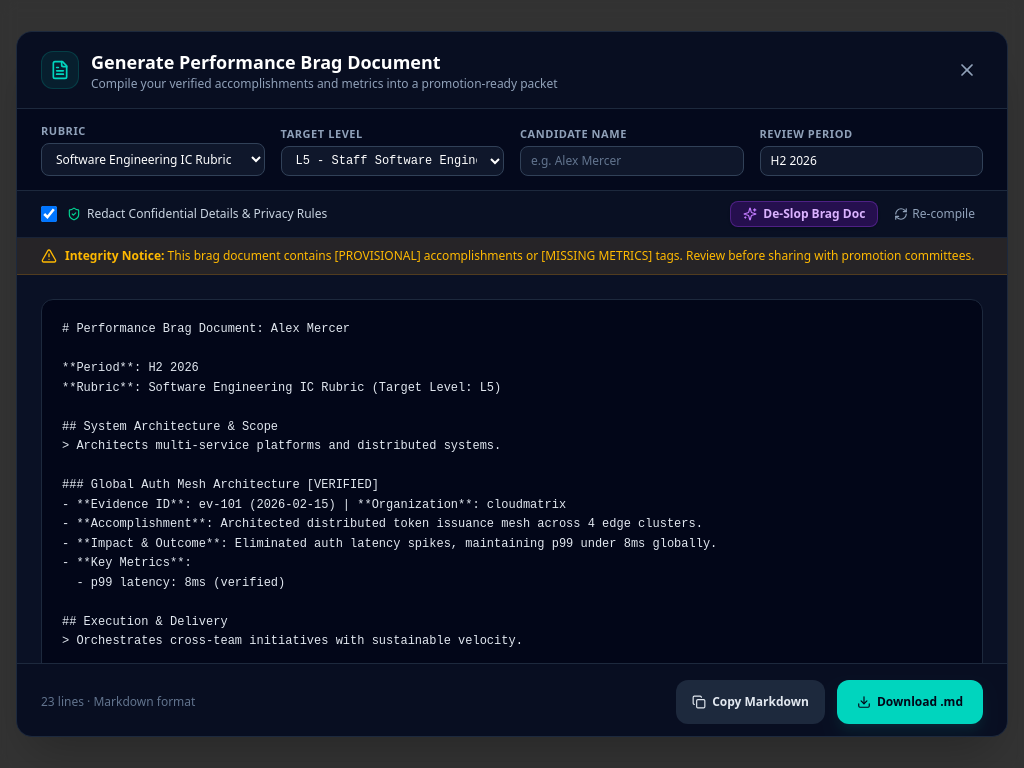
Test case: Rubric Gap Matrix & Brag Doc Generator Tests › Brag Doc Generator Modal (BragDocModal) › copies markdown output to clipboard and updates button state
The image size is (1024, 768).
Check: the text "Global Auth Mesh Architecture" is shown, box [62, 322, 717, 663]
Click the button "Copy Markdown": (750, 702) [676, 680, 825, 724]
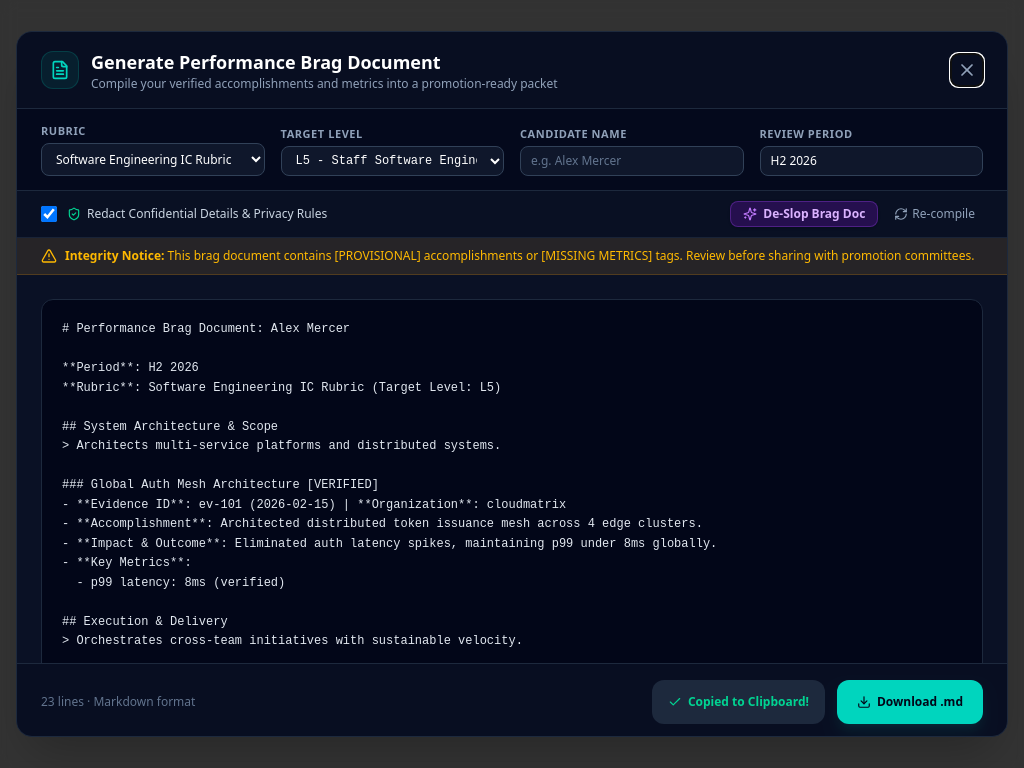
Check: the text "Copied to Clipboard!" is shown, box [688, 694, 809, 710]
